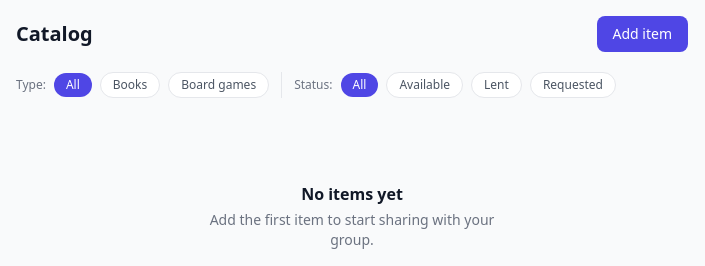
Test: CatalogPage › shows type-specific empty message for Books filter
Expected: the element with test id "catalog-filters" is shown, [16,72,688,98]
Click the button "Books": (130, 85) [100,72,160,98]
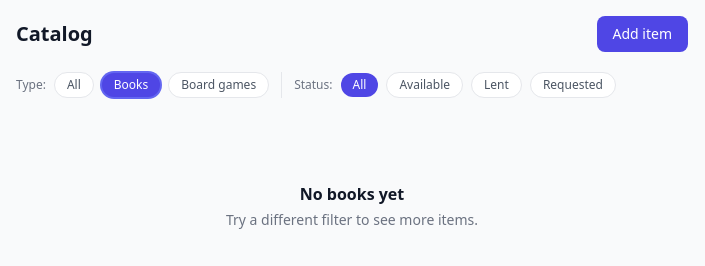
Now the heading "No books yet" is shown, box [300,182,404,206]
